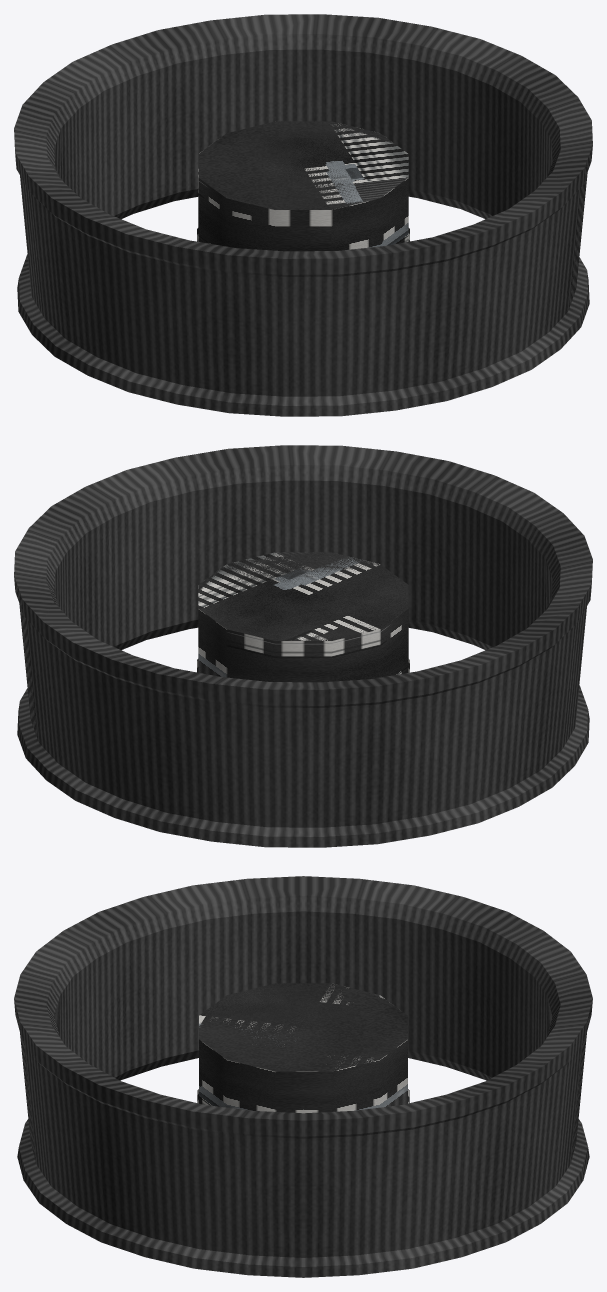
Rendered from Redstone_Engine.DAE.
3 renders of one model, top to bottom at view 1: azimuth 30°, elevation 25°; view 2: azimuth 150°, elevation 25°; view 3: azimuth 270°, elevation 25°, orthographic.
Visible parts, largest first — view 1: fairing, NodeCol, Mercury_Pod_Engine; view 2: fairing, NodeCol, Mercury_Pod_Engine; view 3: fairing, NodeCol, Mercury_Pod_Engine.
Boxes of the visible parts, x1,y1,x2,y2 form: fairing: (14, 14, 592, 416); NodeCol: (198, 121, 408, 251); Mercury_Pod_Engine: (197, 121, 409, 241); fairing: (14, 445, 592, 847); NodeCol: (198, 552, 408, 682); Mercury_Pod_Engine: (197, 552, 409, 672); fairing: (14, 876, 592, 1277); NodeCol: (199, 983, 407, 1113); Mercury_Pod_Engine: (197, 983, 409, 1103).
Bounding box in the file's own units: 1.25 × 0.4044 × 1.25.
